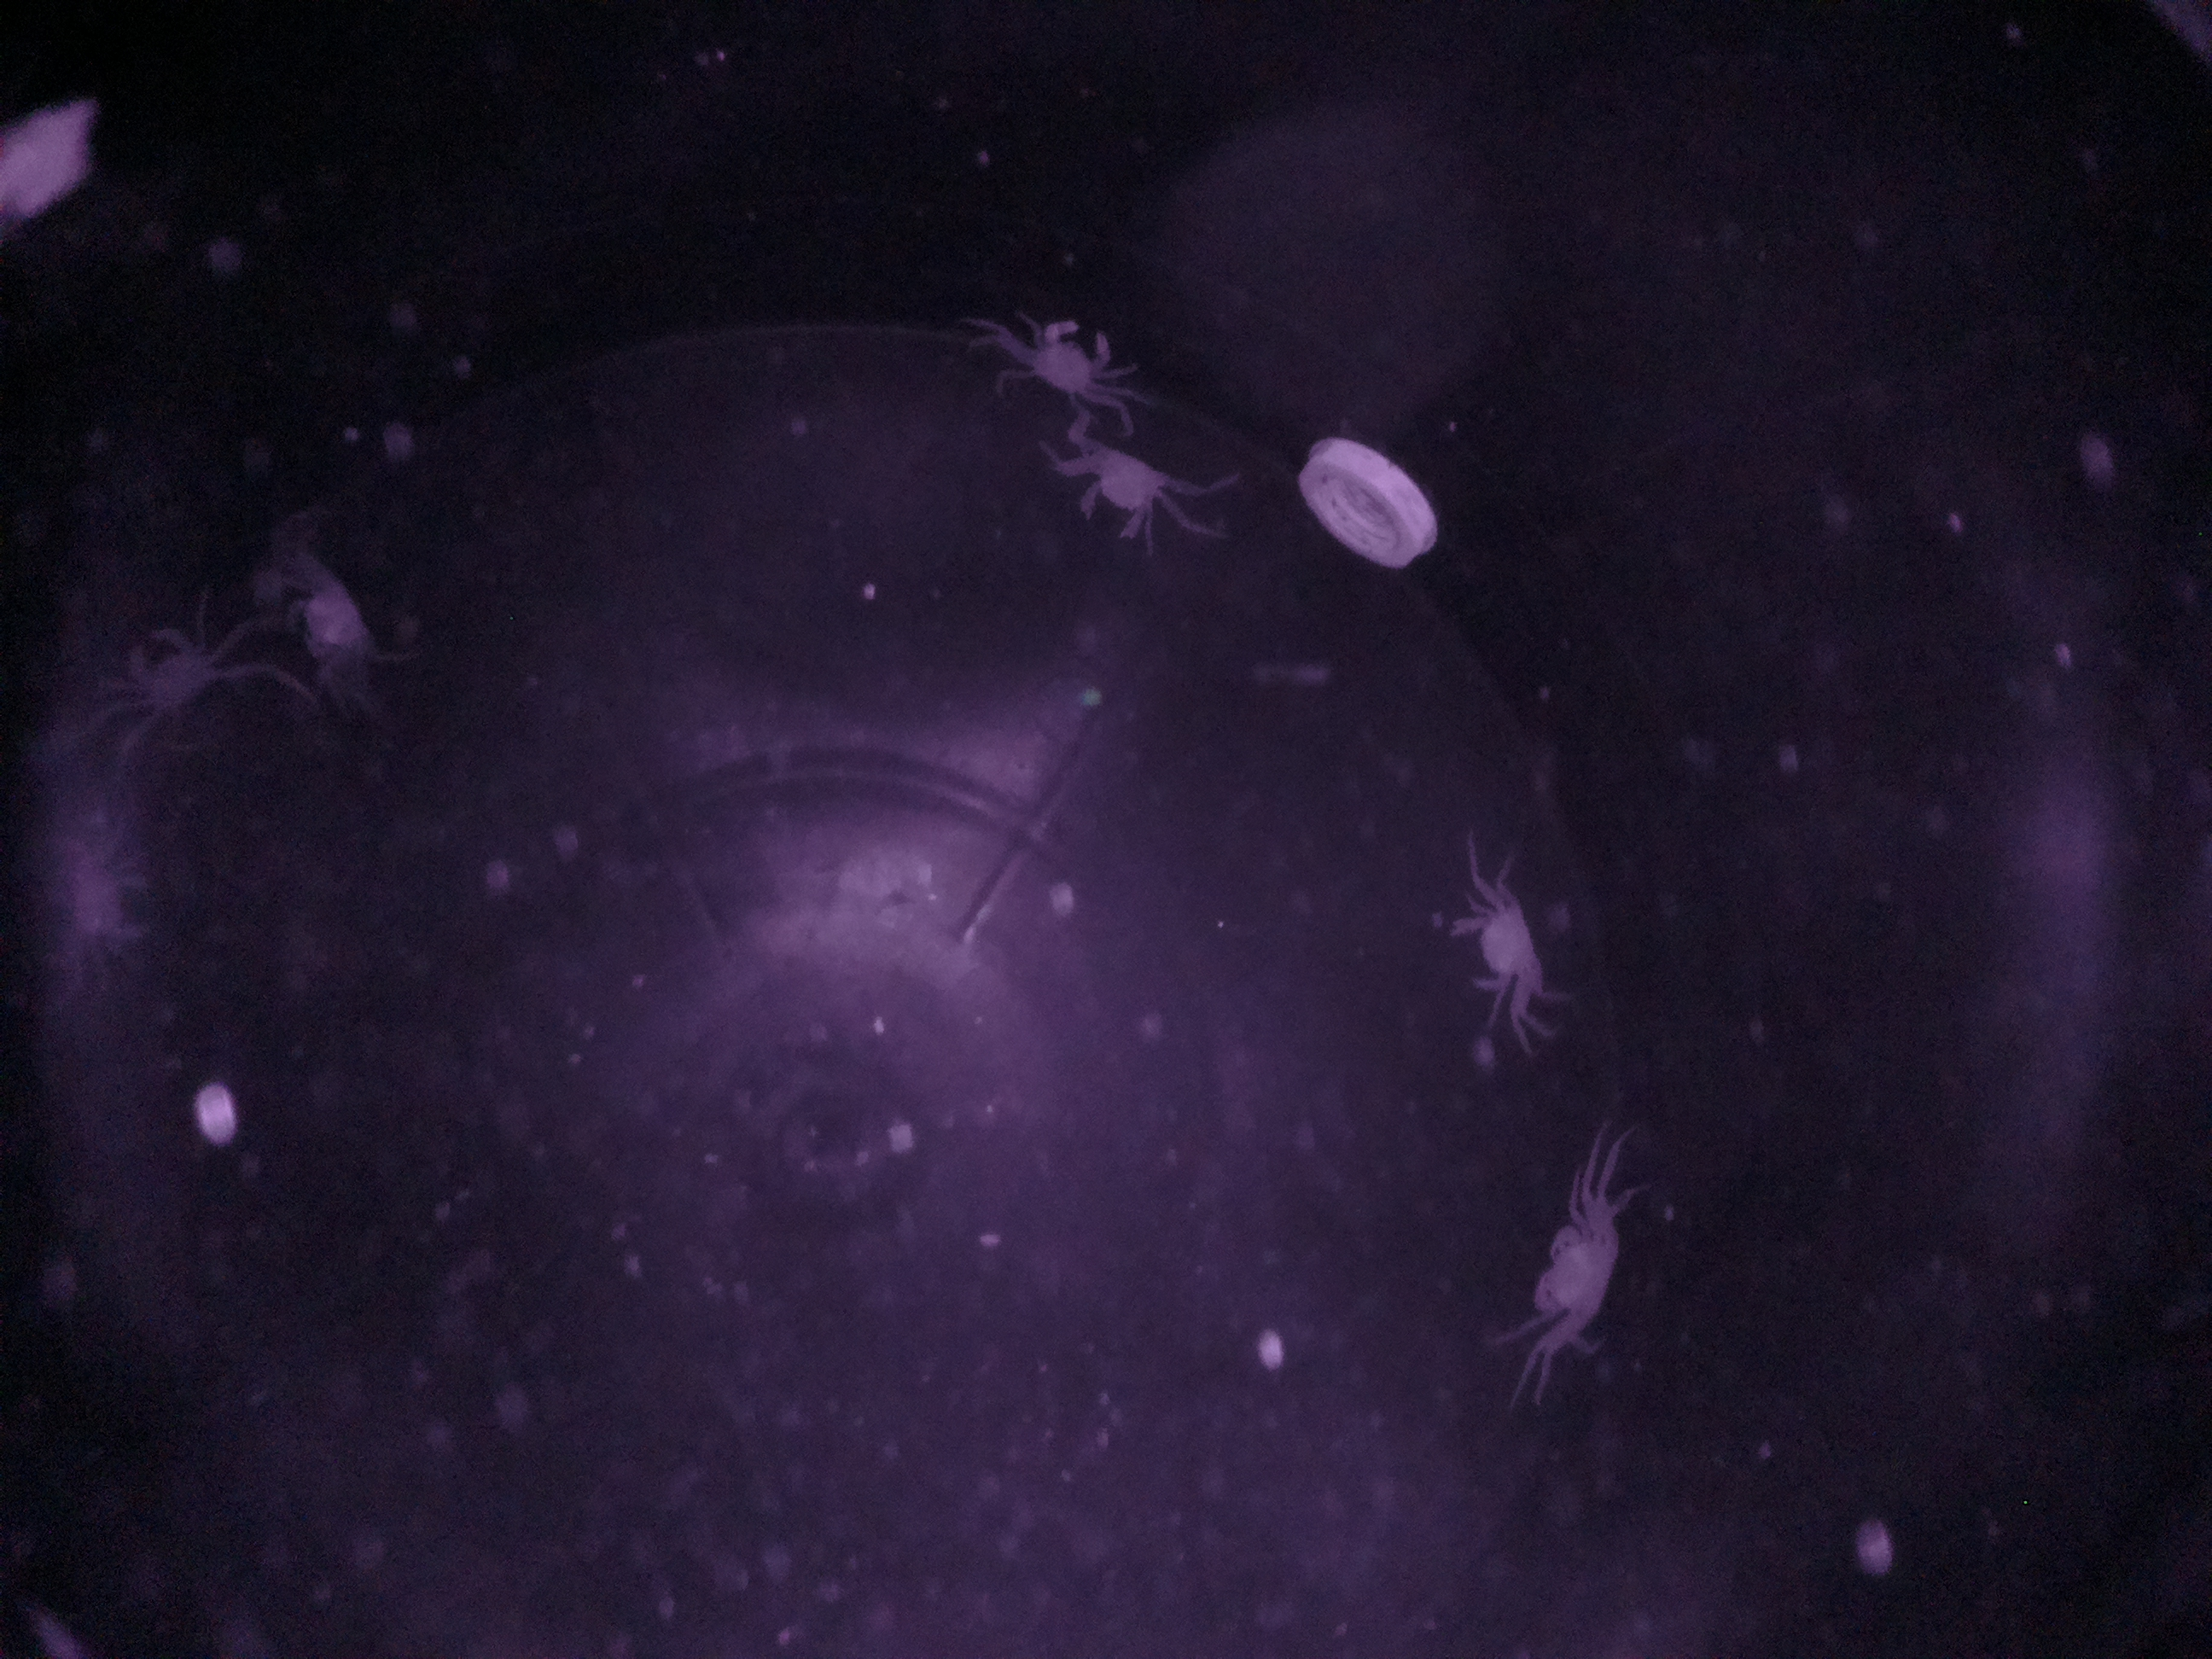Crab: (1510, 1194, 1649, 1344), (1428, 884, 1568, 1011), (103, 608, 233, 741), (1066, 425, 1176, 563), (1008, 298, 1116, 415)
